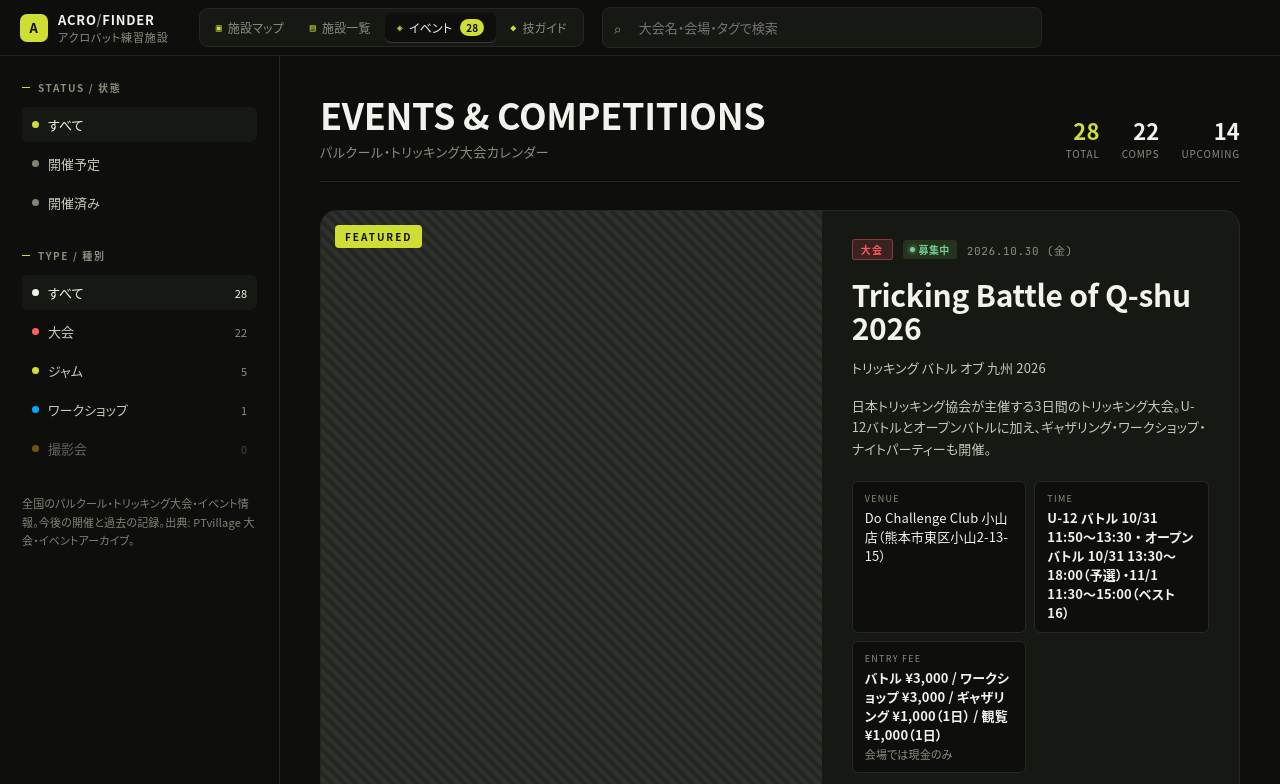
Test: EventsFeed › surfaces upcoming events under the 開催予定 filter
Click the button with class "filter-row" showing "開催予定".
click(140, 164)  # box [22,146,257,181]
(page scrolled)
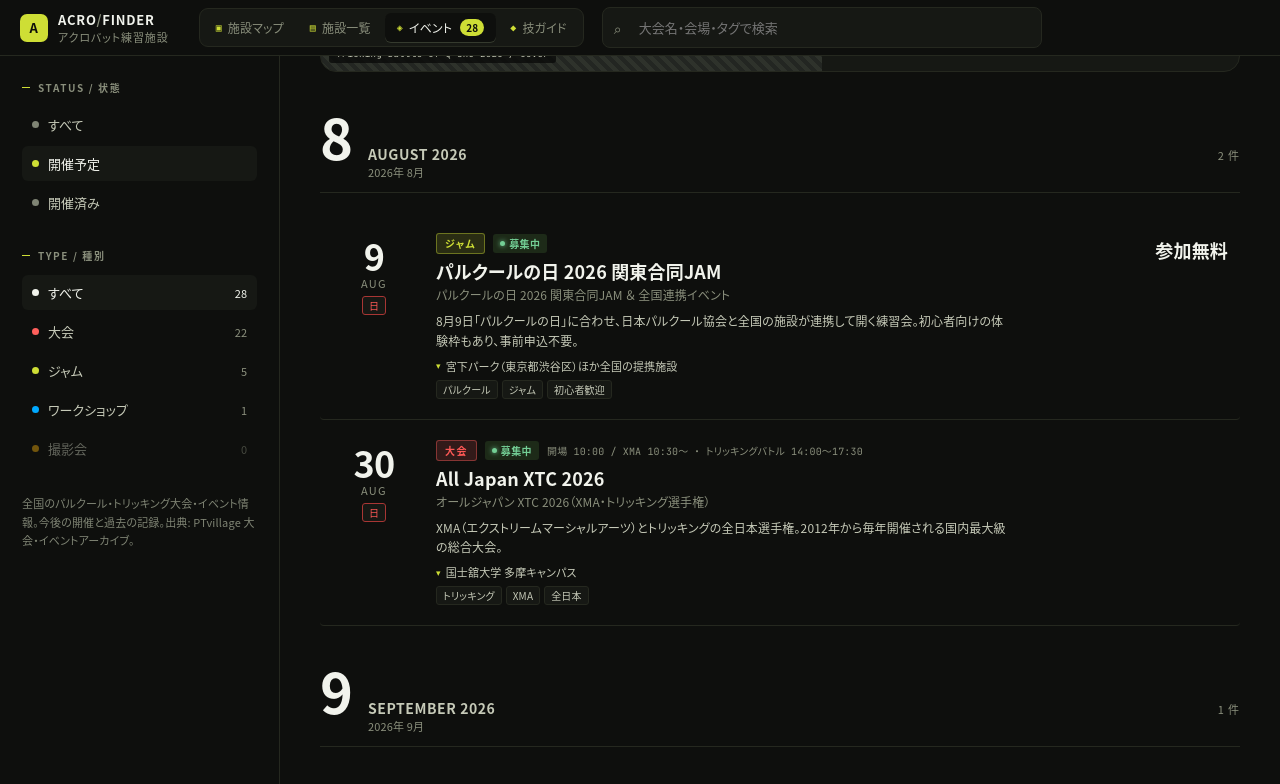
Now the heading "All Japan XTC 2026" is shown, box [436,465,605,491]
